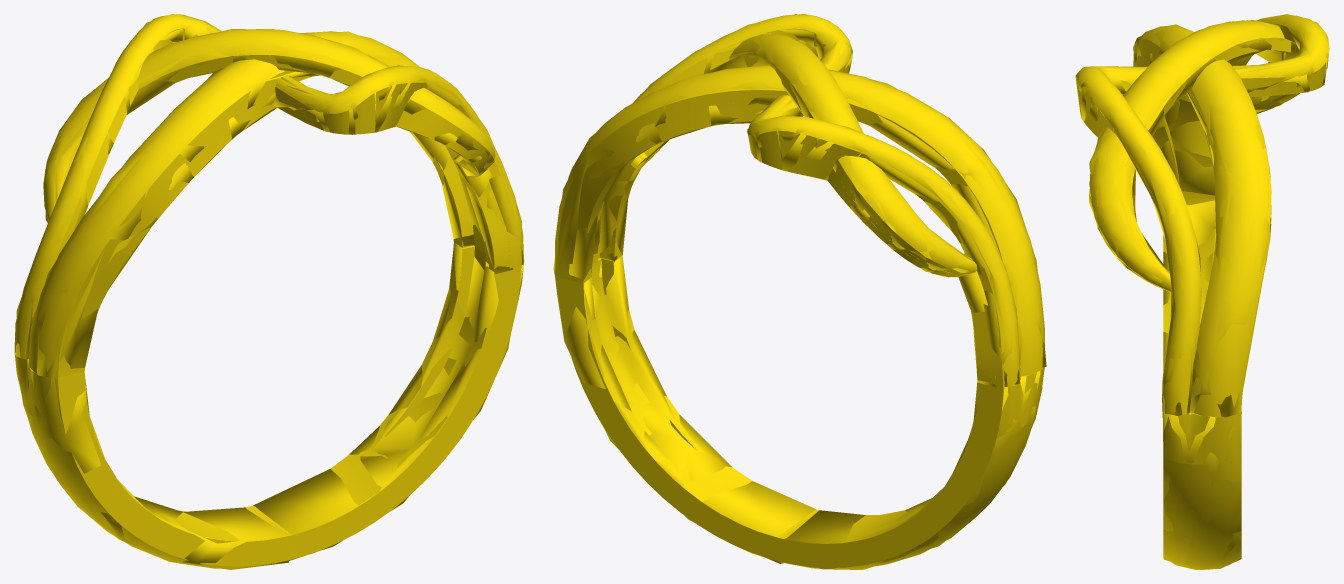
File: GLR-D000578764.glb
The picture shows the model from 3 angles, left to right: view 1: azimuth 30°, elevation 25°; view 2: azimuth 150°, elevation 25°; view 3: azimuth 270°, elevation 25°; orthographic projection. The views are drawn at different scales.
Parts seen in each view (by area): view 1: highPolyMesh, lowPolyMesh; view 2: highPolyMesh, lowPolyMesh; view 3: highPolyMesh, lowPolyMesh.
Part boxes in pixels (<box>): highPolyMesh: <box>14,14,523,568</box>; lowPolyMesh: <box>15,14,524,569</box>; highPolyMesh: <box>554,14,1044,569</box>; lowPolyMesh: <box>553,14,1046,569</box>; highPolyMesh: <box>1075,15,1329,569</box>; lowPolyMesh: <box>1076,14,1328,568</box>.
Bounding box in the file's own units: 0.021 × 0.0217 × 0.00977.
